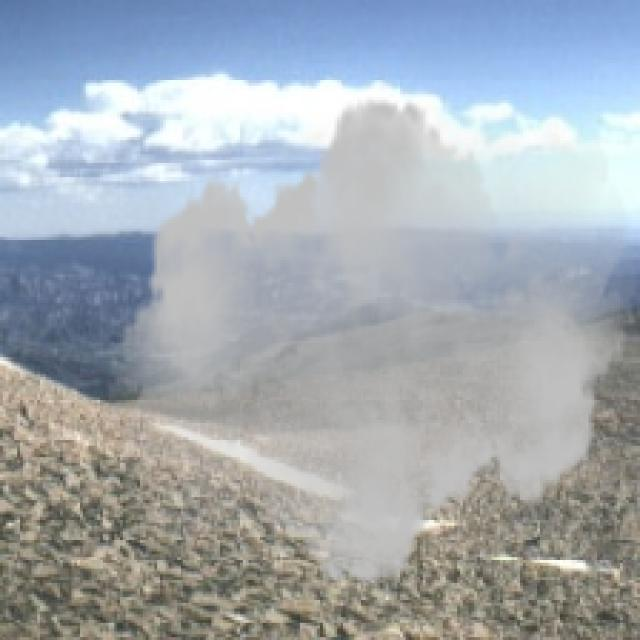smoke: (109, 77, 637, 606)
